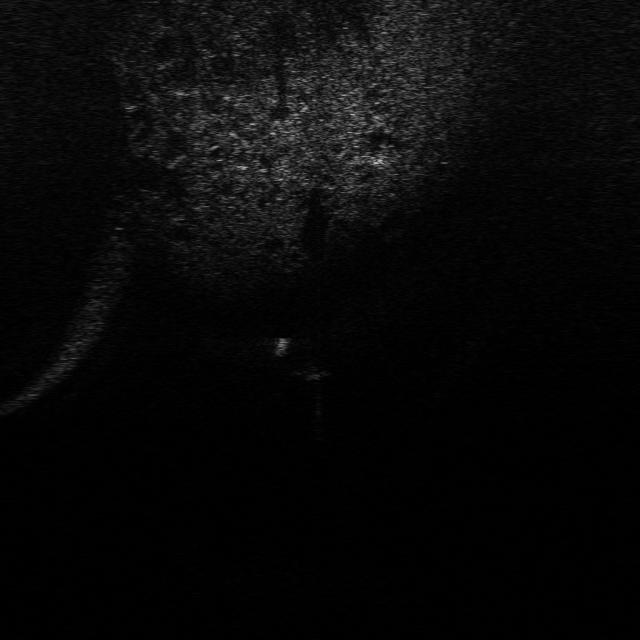cube: (290, 358, 334, 385)
cylinder: (267, 331, 292, 361)
